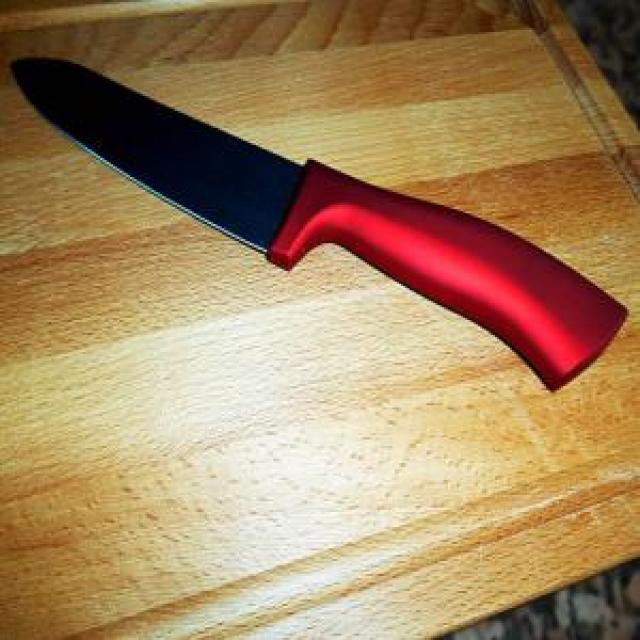knife: (6, 56, 628, 394)
